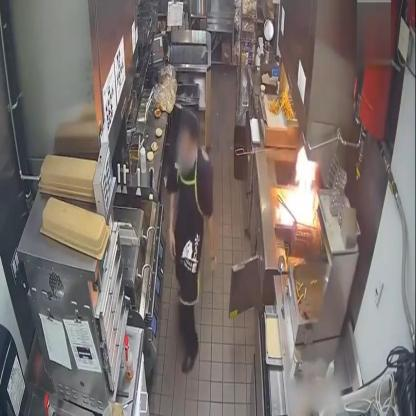fire: (283, 140, 321, 231)
